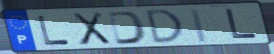D: (107, 10, 149, 46), (145, 8, 185, 45)
I: (189, 7, 211, 43)
L: (224, 8, 260, 41), (36, 14, 72, 46)
X: (70, 11, 113, 47)
